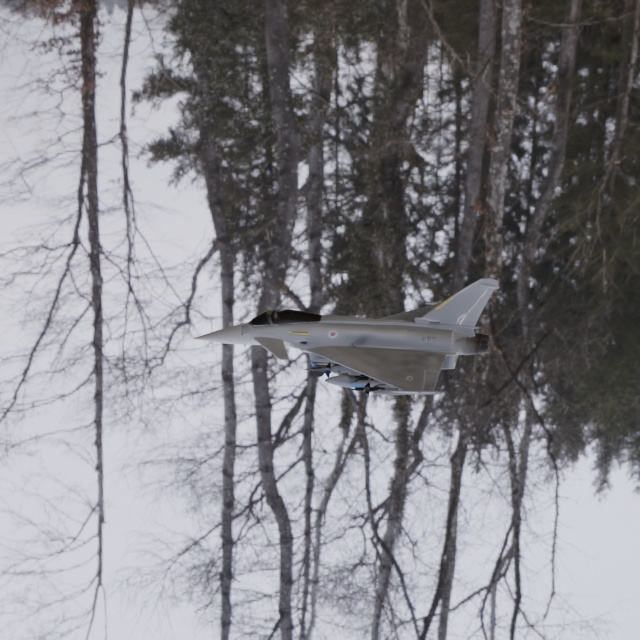eurofighter_typhoon_3d: (145, 236, 509, 437)
